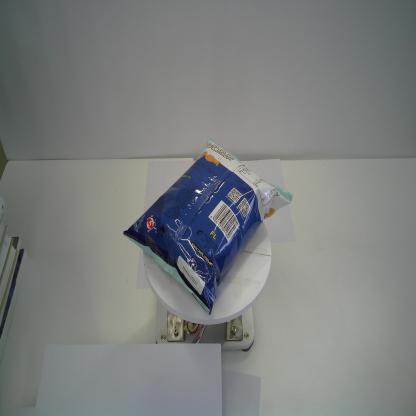Puffed Food: (122, 136, 294, 316)
